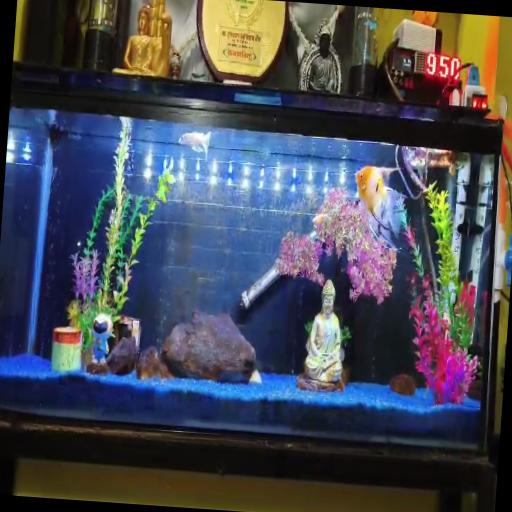Fish: (356, 166, 405, 249), (179, 132, 210, 158), (312, 213, 327, 225)
